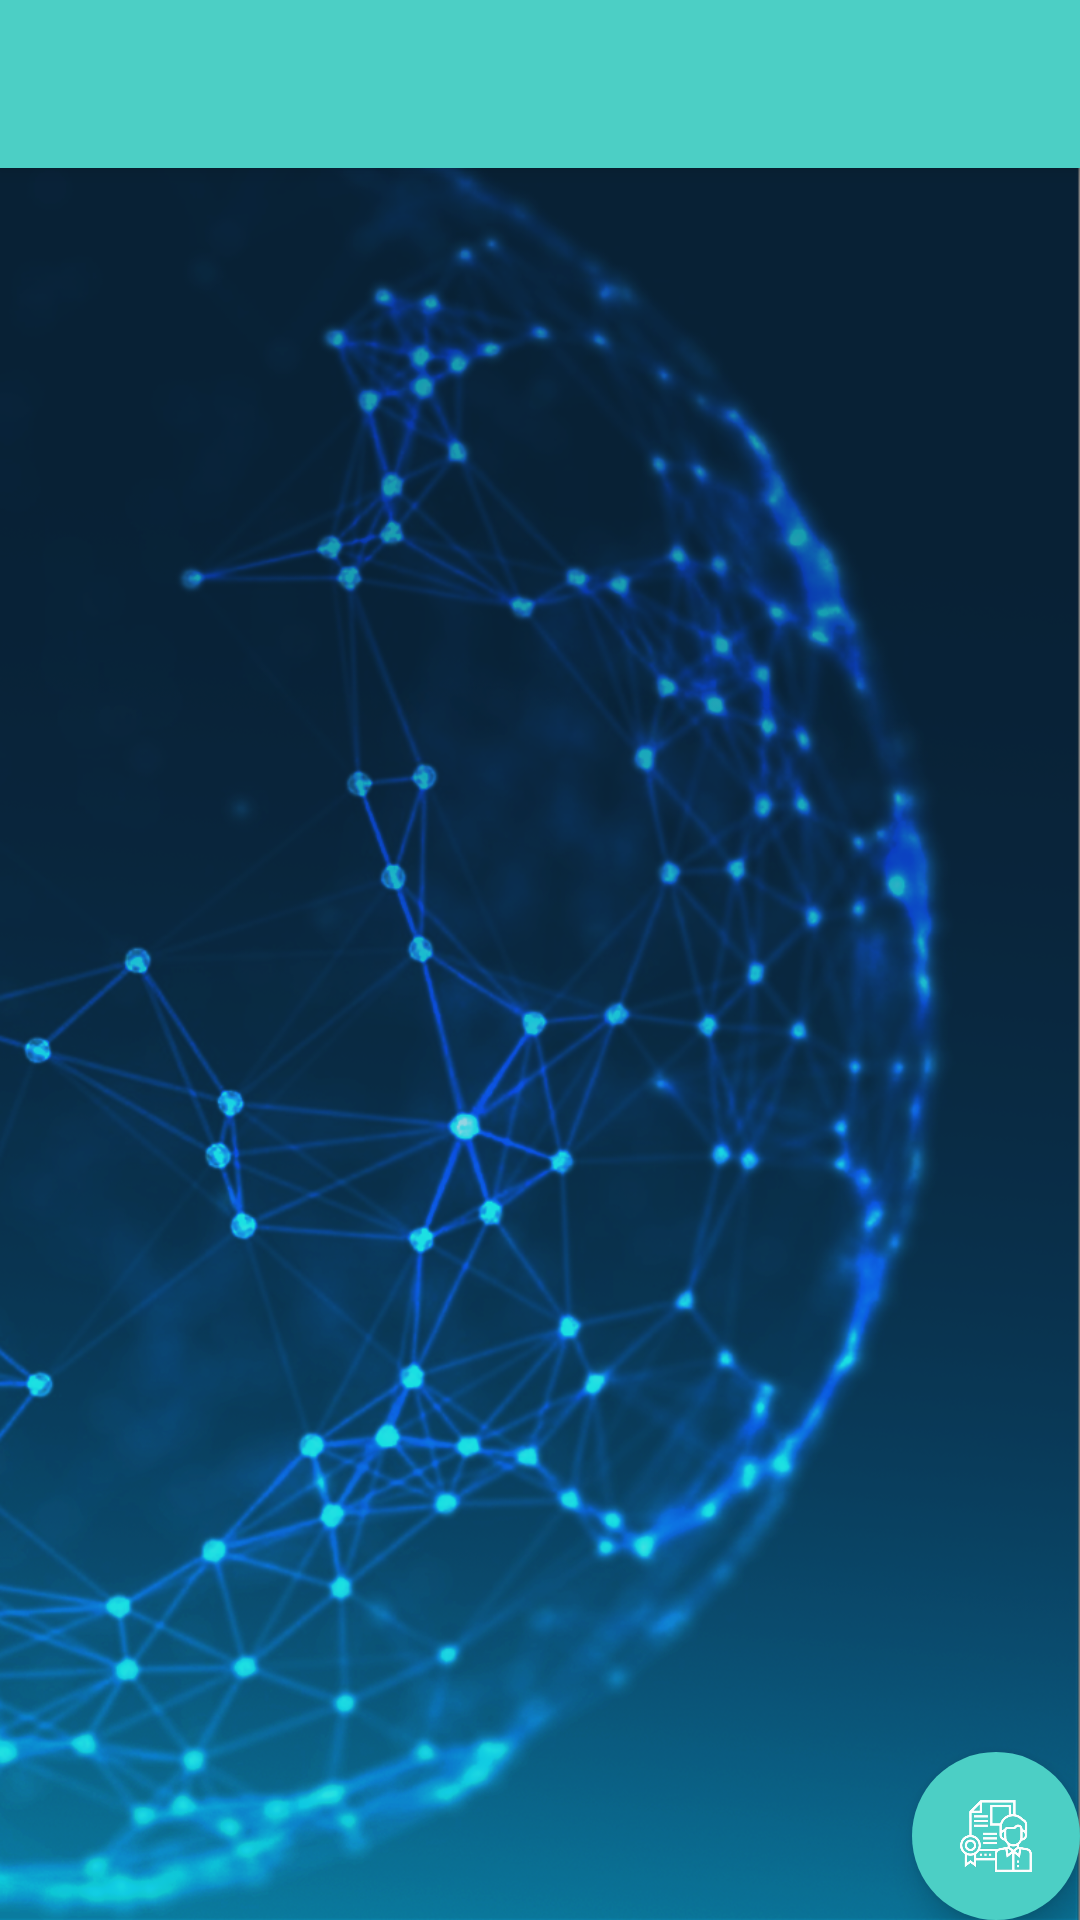

Icons on this 1080*1920 Android screen, each with its box as detection(x1, y1, x2, y2):
issuer: detection(912, 1752, 1080, 1920)
